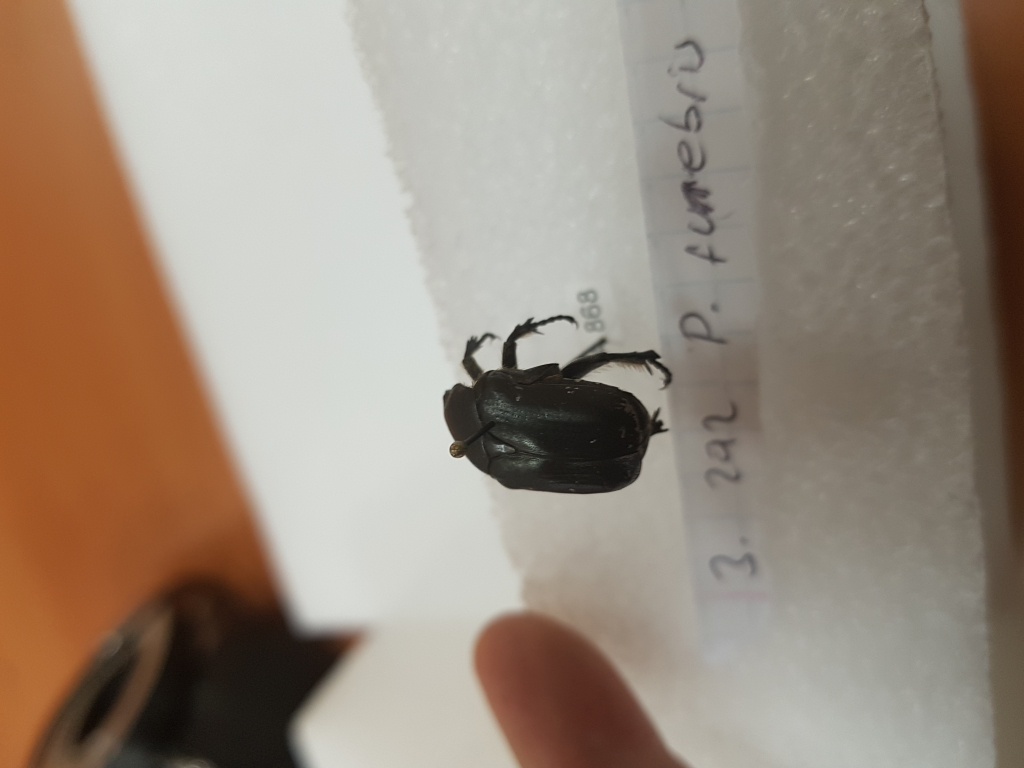Protaetia_funebris_funebris: (412, 306, 702, 497)
